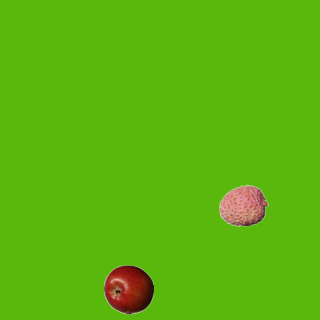Apple Braeburn: (103, 264, 153, 314)
Lychee: (218, 180, 268, 230)
